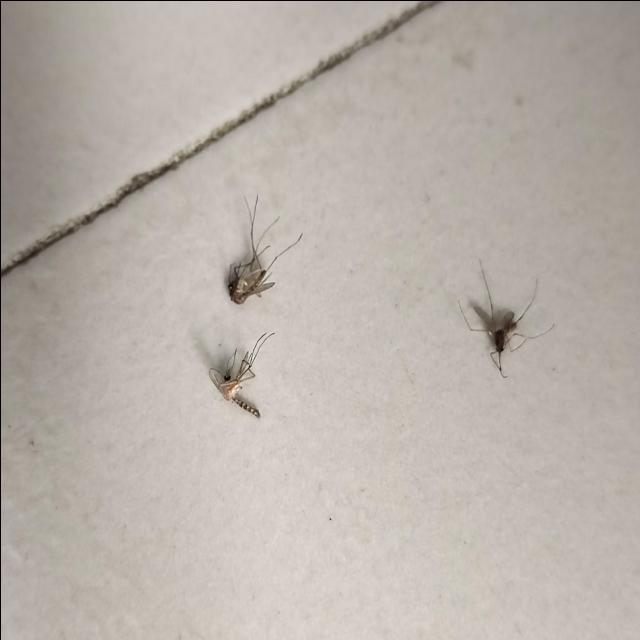Mosquito: (210, 203, 296, 315), (446, 288, 542, 386), (182, 340, 286, 416)
